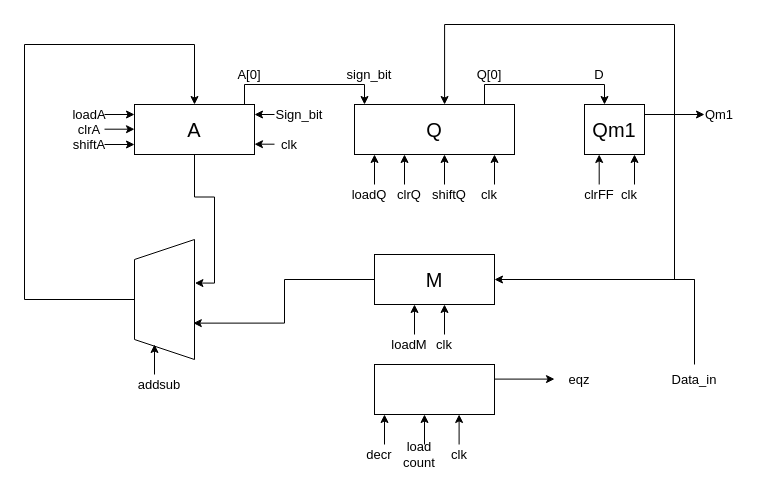
The diagram is 762 pixels wide and 487 high, and some of its shapes have lost their labels. The shapes that lost their labels are listed below. From the top down, each one's box as (x1, y1, x2, y2) in pixels, then its label:
(134, 238, 194, 360): ALU
(374, 364, 494, 414): Counter
